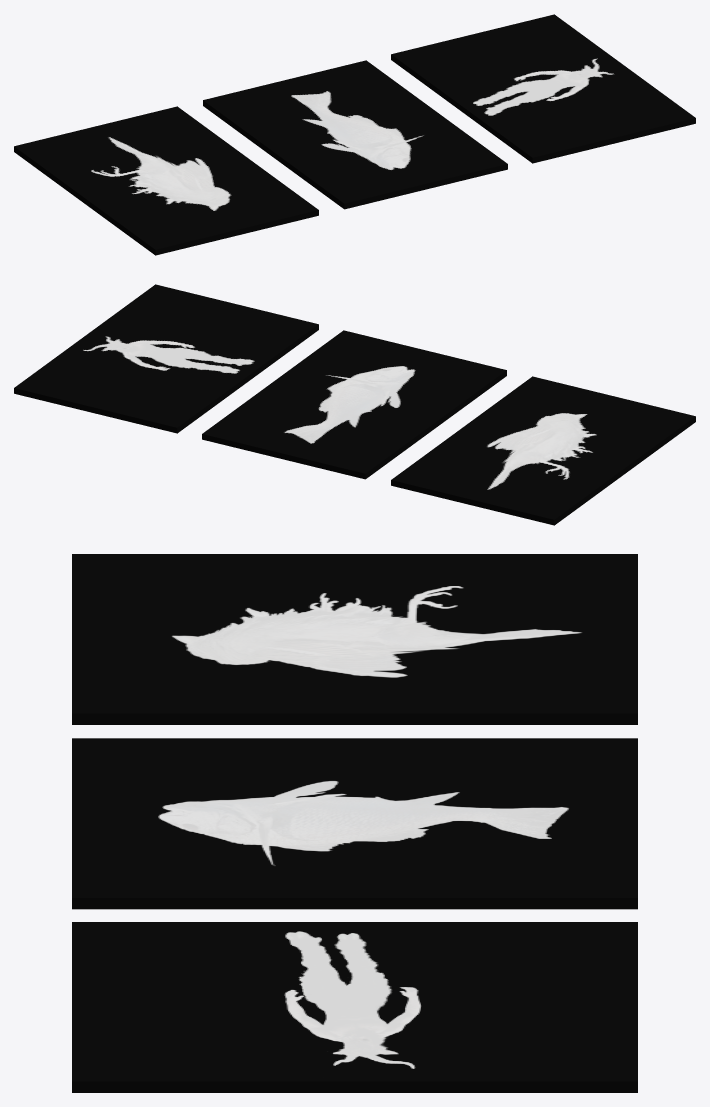
File: life.fbx
3 views of the same model, one above another, from view 1: azimuth 30°, elevation 25°; view 2: azimuth 150°, elevation 25°; view 3: azimuth 270°, elevation 25° (orthographic). The views are drawn at different scales.
Visible parts, largest first — view 1: Picture_Bird, Picture_Goadhuman, Picture_Fish; view 2: Picture_Bird, Picture_Goadhuman, Picture_Fish; view 3: Picture_Fish, Picture_Bird, Picture_Goadhuman.
Boxes of the visible parts, box(x1,y1,x2,y2) form: Picture_Bird: box(14, 106, 318, 255); Picture_Goadhuman: box(391, 14, 695, 163); Picture_Fish: box(203, 60, 507, 209); Picture_Bird: box(391, 376, 695, 525); Picture_Goadhuman: box(14, 284, 318, 433); Picture_Fish: box(202, 330, 506, 479); Picture_Fish: box(72, 738, 637, 909); Picture_Bird: box(72, 554, 637, 724); Picture_Goadhuman: box(72, 922, 637, 1092).
Bounding box in the file's own units: 3969 × 40 × 1800.
